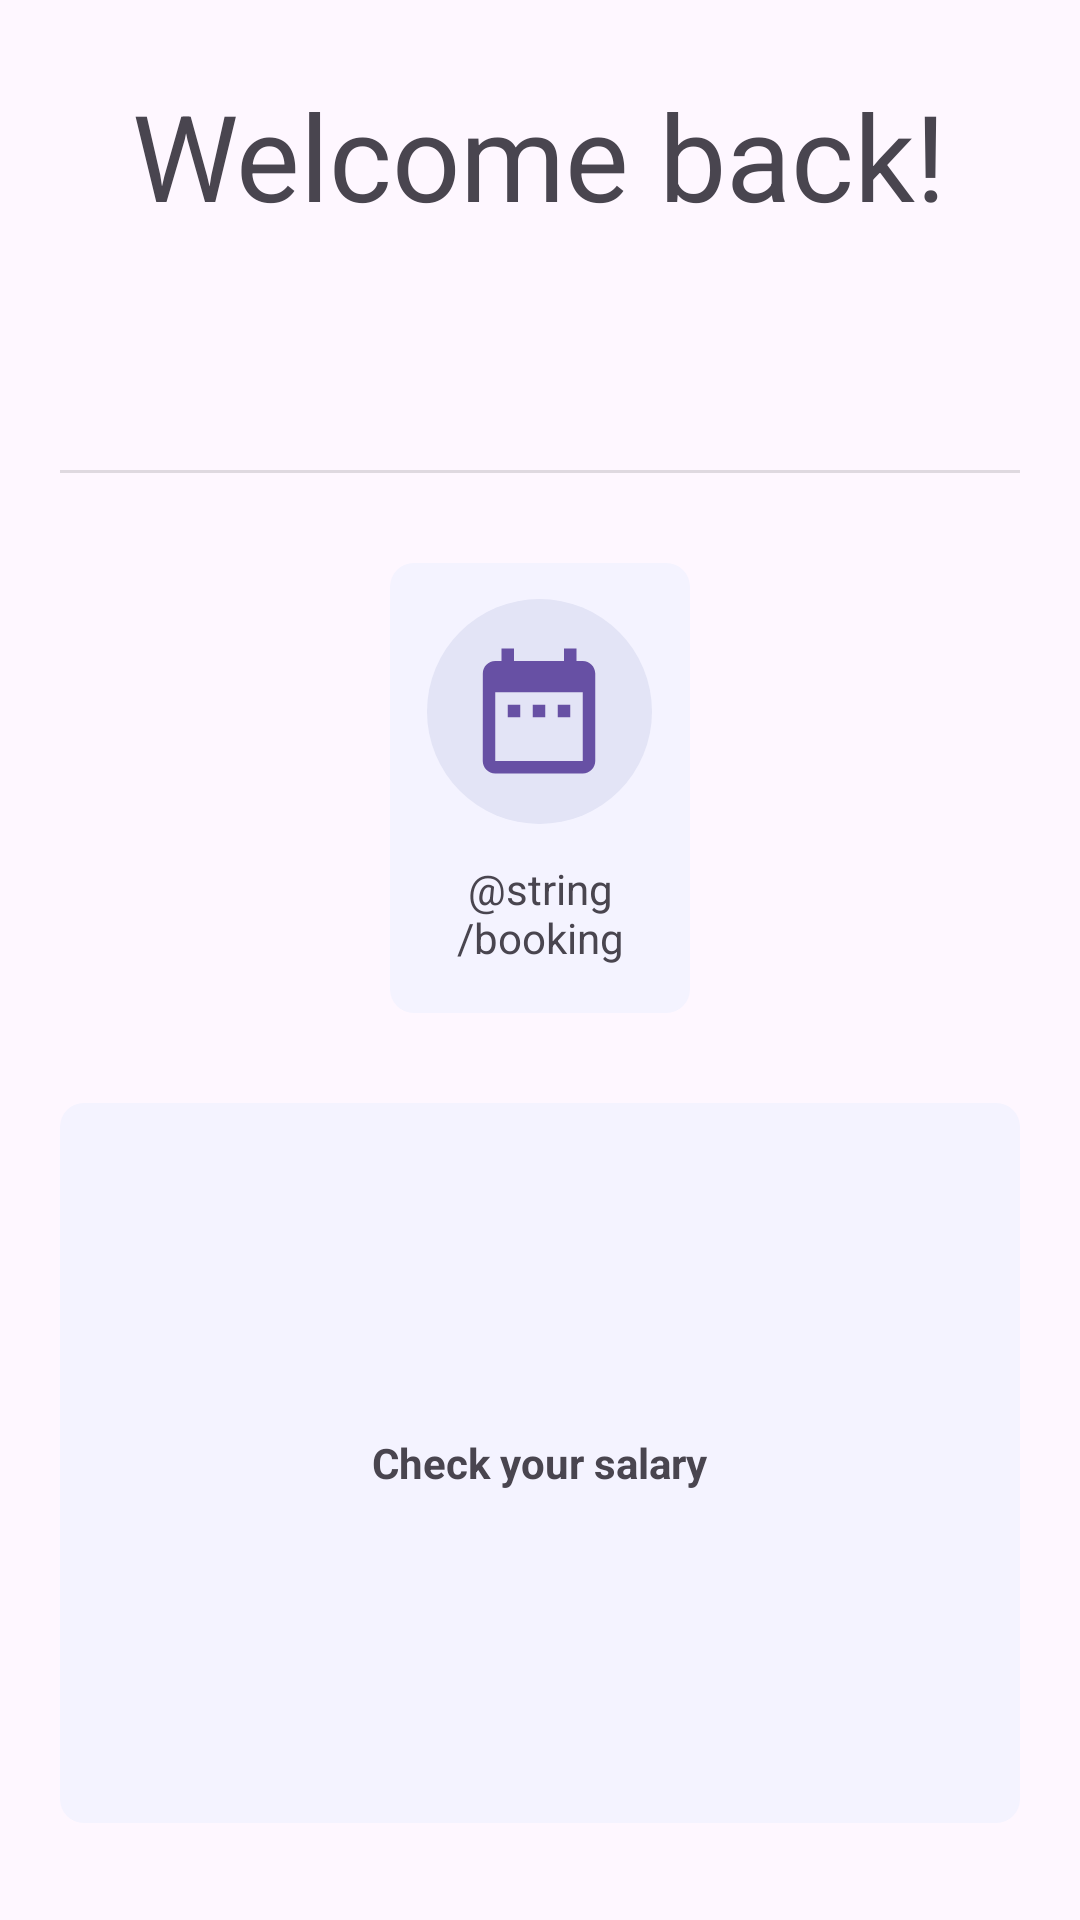

Named icons in this screenshot (1080x1920) and their centers, [x,y]:
date surface tint: [539,711]
